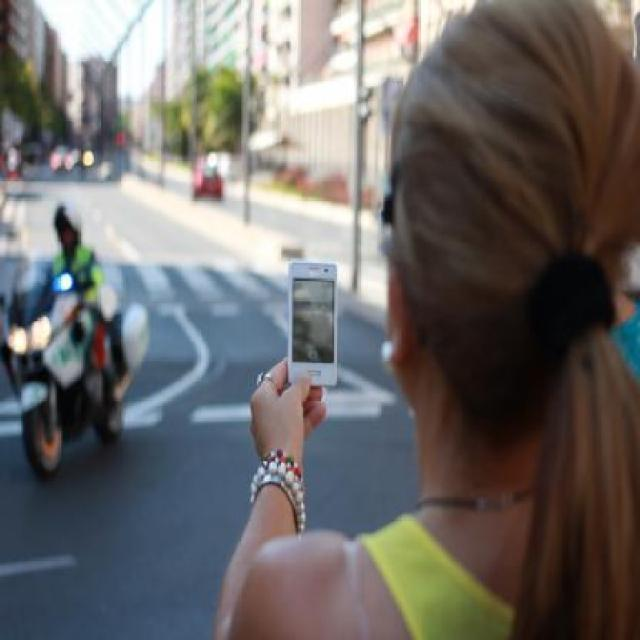phone: (272, 258, 340, 396)
